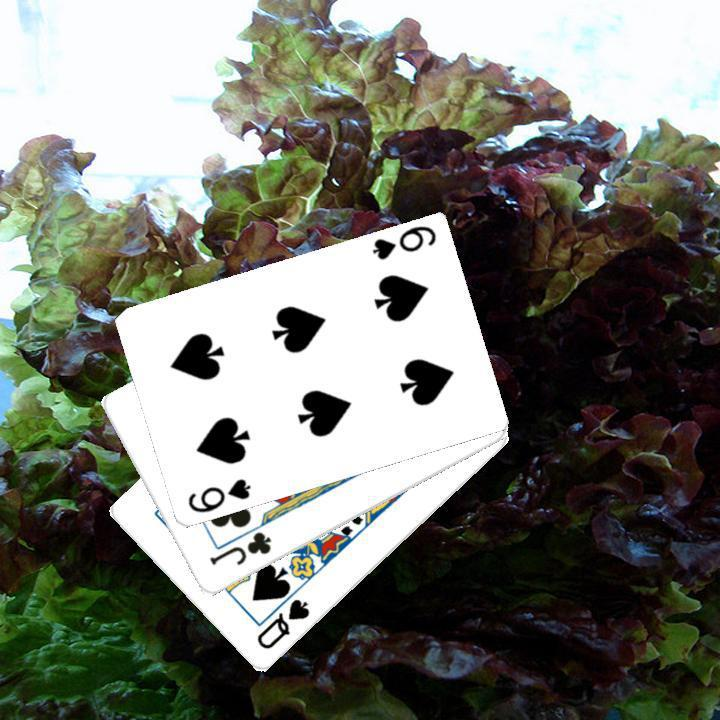6: (367, 222, 438, 263), (183, 475, 253, 516)
J: (205, 527, 274, 568)
Q: (252, 595, 312, 652)
